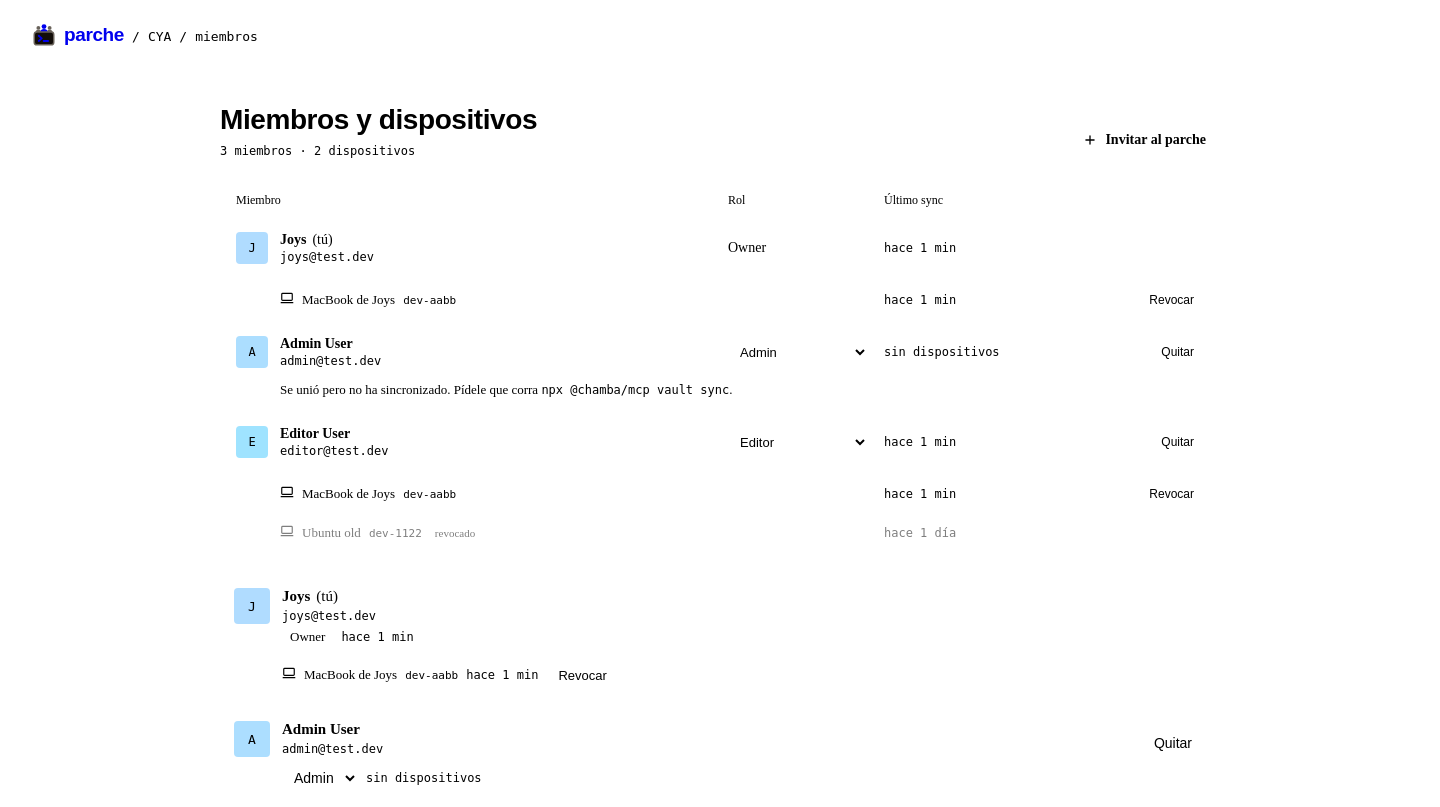
Test case: MiembrosPage › shows confirm dialog with Revocar copy when Revocar device is clicked
Check: the heading "Miembros y dispositivos" is shown, box [220,104,537,136]
Click the 1st button "Revocar". click: click(1172, 300)
box: [1139,286,1204,314]
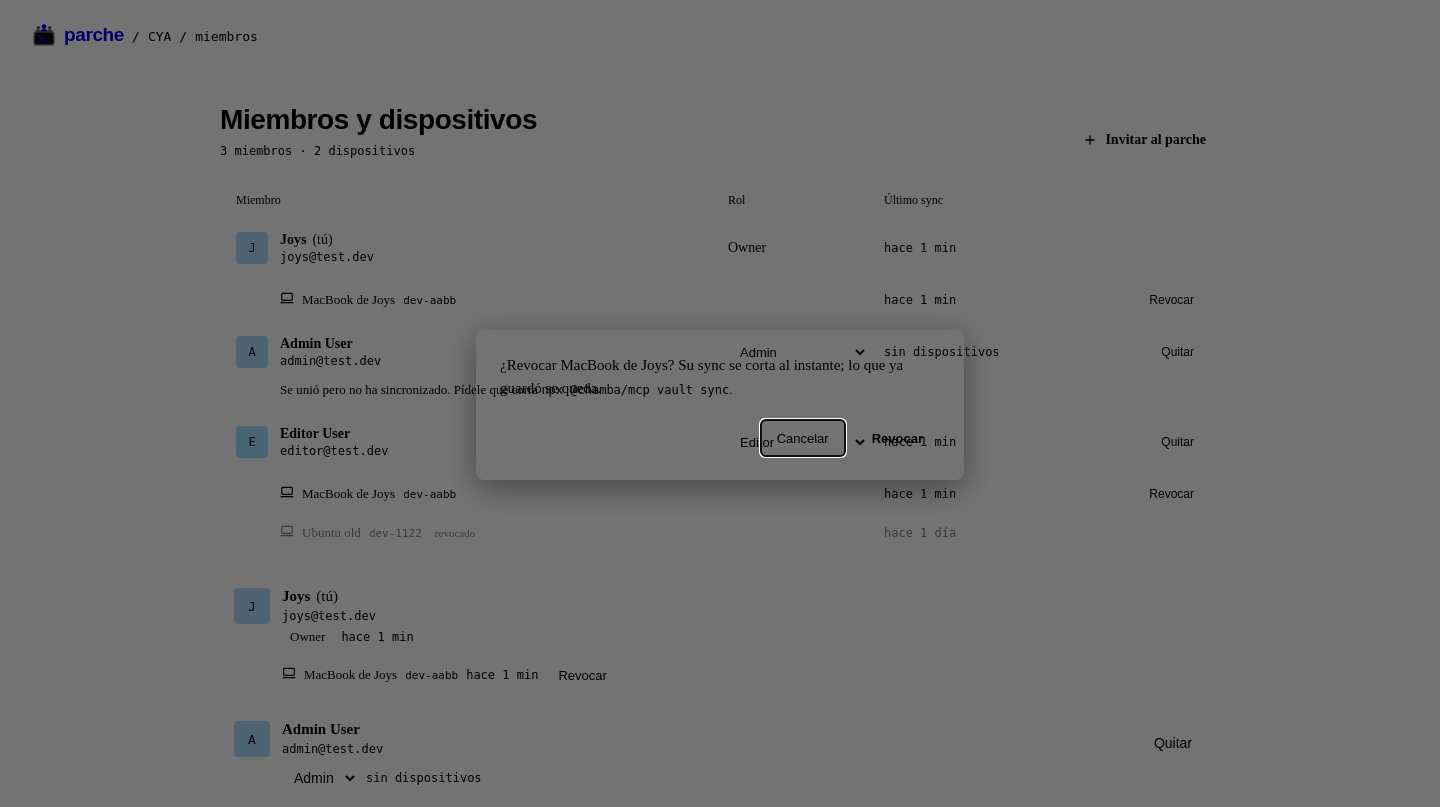
Check: the dialog is shown, box [476,330,964,480]
Check: the text "Su sync se corta" is shown, box [500,357,903,396]
